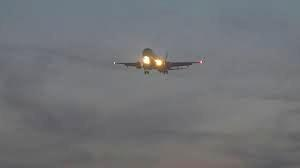Plane: (111, 44, 202, 83)
